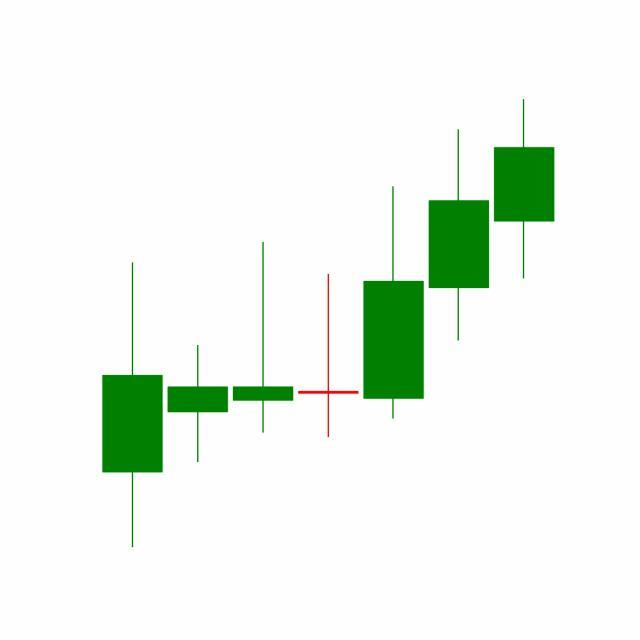Three Outside Up-Down: (295, 126, 492, 441)
